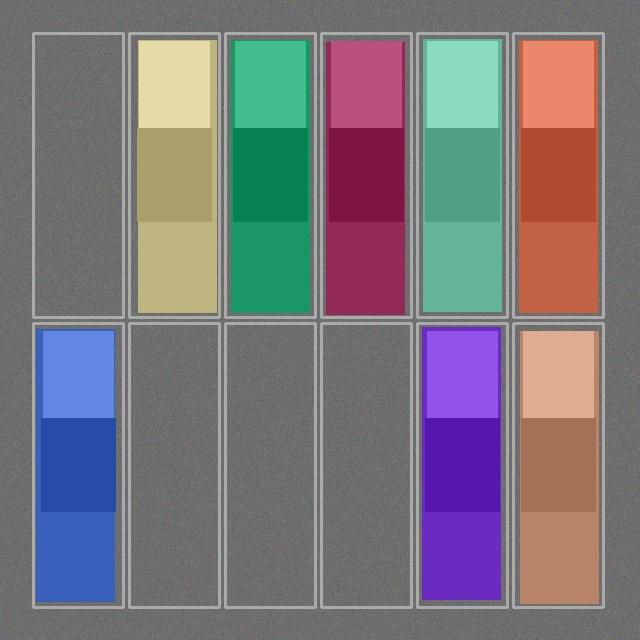space-empty: (35, 35, 121, 315), (131, 325, 217, 605), (227, 325, 313, 605), (323, 325, 409, 605)
space-occupied: (131, 35, 217, 315), (227, 35, 313, 315), (323, 35, 409, 315), (419, 35, 505, 315), (515, 35, 601, 315), (35, 325, 121, 605), (419, 325, 505, 605), (515, 325, 601, 605)
